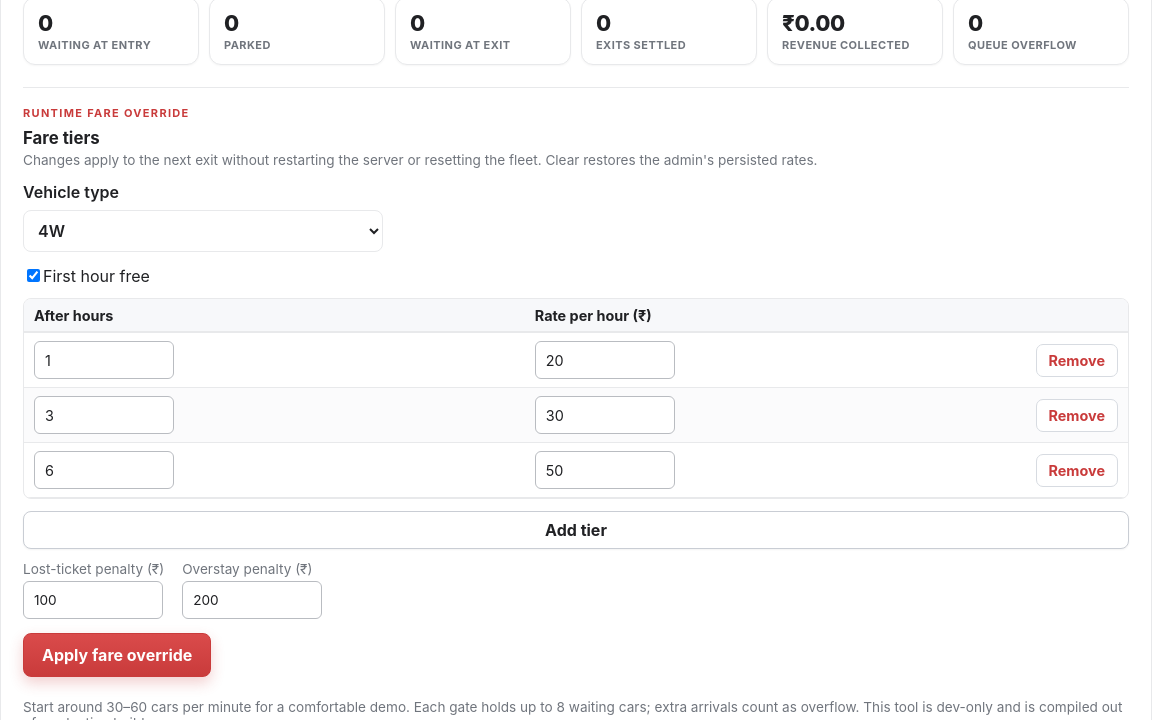
Scenario: S4-T3 — Simulation Console › shows generator counters and applies a runtime fare-tier override
The width and height of the screenshot is (1152, 720).
(page scrolled)
Replace the text in the number field named "Tier 1 rate per hour" with "22" at (605, 360), box [535,341,675,379]
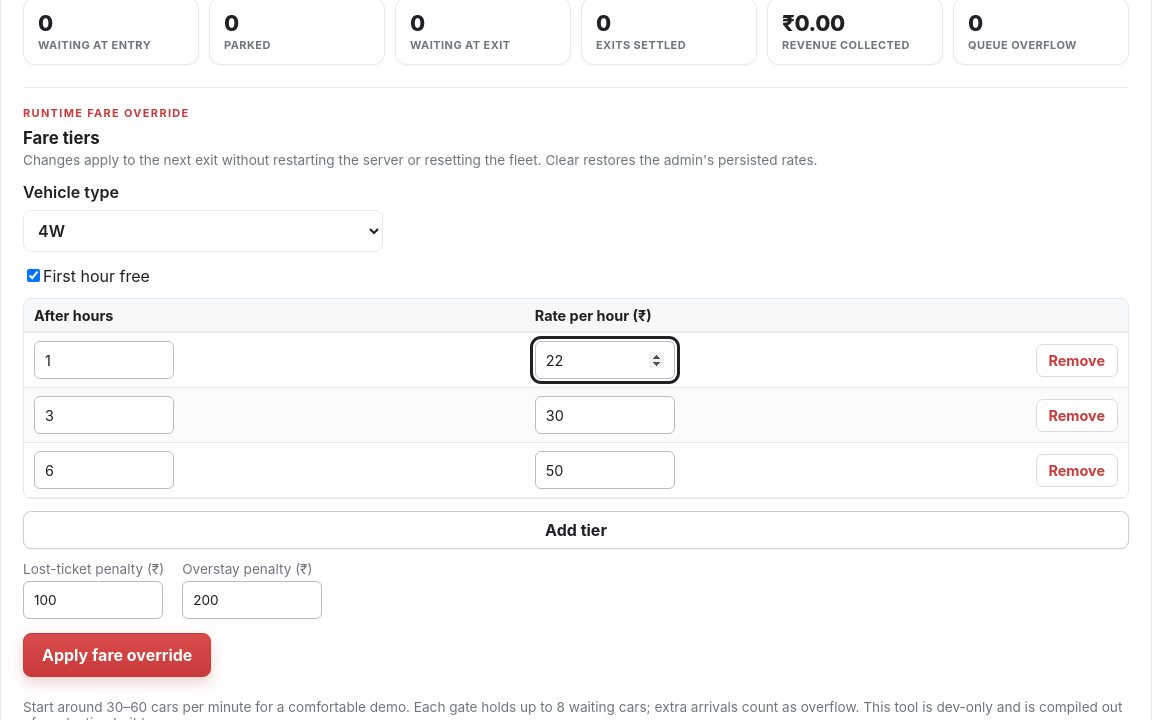
Click the button "Apply fare override" at (117, 655), box [23,633,211,677]
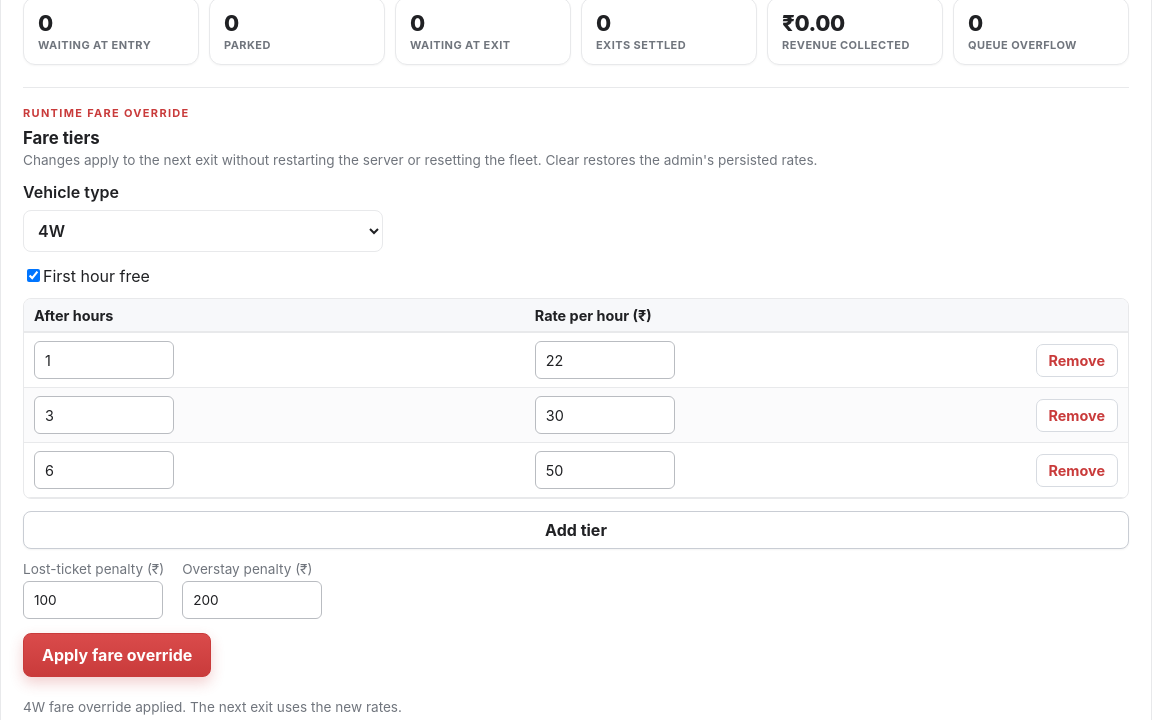
Check: the text "4W fare override applied. The next exit uses the new rates." is shown, box [23,699,402,715]
